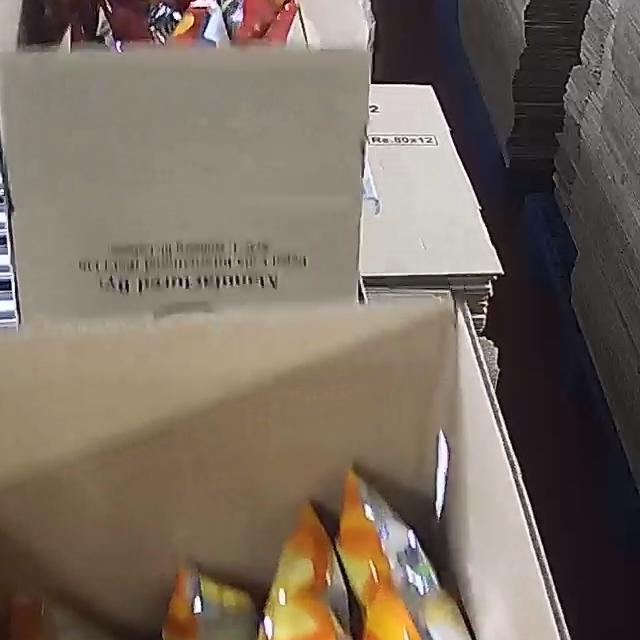cheese: (0, 555, 505, 640)
masala: (42, 0, 325, 67)
